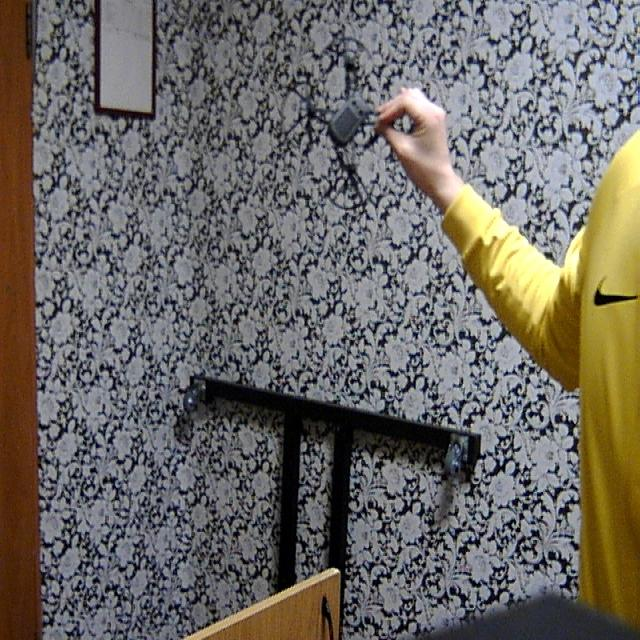drone: (276, 27, 416, 205)
